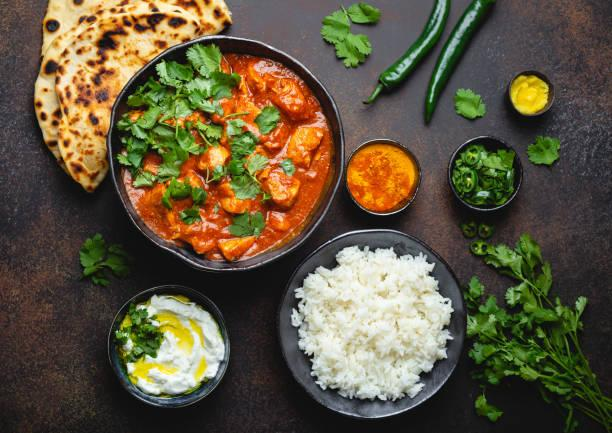Braised Crucian Carp: (106, 34, 337, 272), (276, 228, 460, 420)
